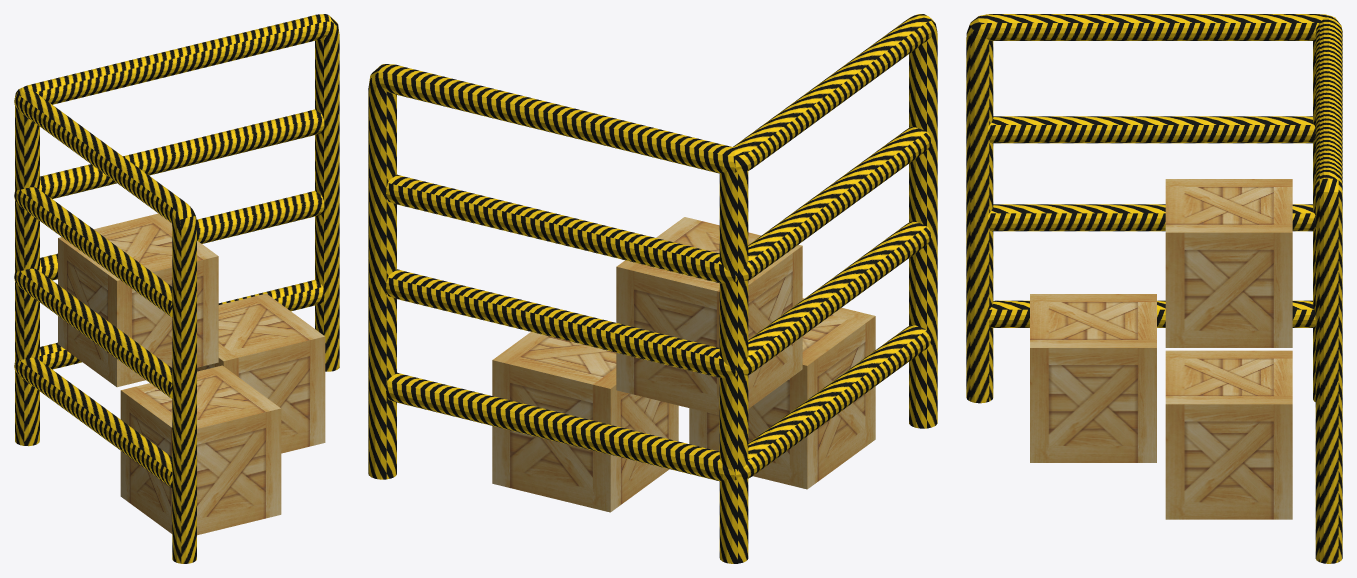
Rendered from Cosa del medio.fbx.
The picture shows the model from 3 angles, left to right: view 1: azimuth 30°, elevation 25°; view 2: azimuth 150°, elevation 25°; view 3: azimuth 270°, elevation 25°; orthographic projection. The views are drawn at different scales.
Visible parts, largest first — view 1: Cylinder, Cube.003, Cube.002, Cube.001; view 2: Cylinder, Cube.001, Cube.002, Cube.003; view 3: Cylinder, Cube.001, Cube.002, Cube.003.
Part boxes in pixels (x1,y1,x2,y2): Cylinder: [14, 14, 339, 563]; Cube.003: [120, 365, 281, 535]; Cube.002: [58, 213, 218, 387]; Cube.001: [197, 293, 325, 453]; Cylinder: [368, 14, 937, 563]; Cube.001: [492, 332, 678, 512]; Cube.002: [616, 217, 802, 415]; Cube.003: [689, 298, 875, 489]; Cylinder: [966, 14, 1342, 563]; Cube.001: [1165, 350, 1292, 519]; Cube.002: [1165, 179, 1292, 347]; Cube.003: [1030, 294, 1156, 462].
Size of the model in its own units: 261 by 272 by 241.
2 materials, 2 textured.
